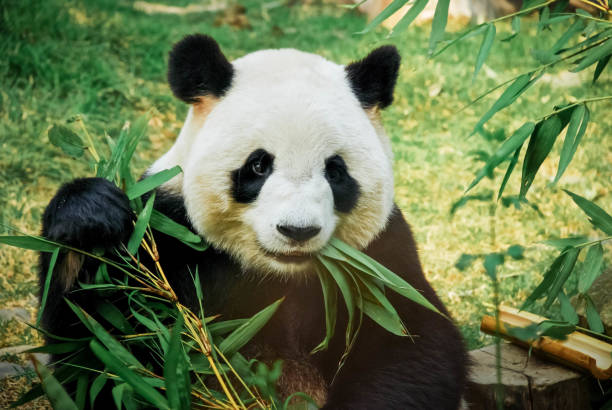panda: (140, 27, 426, 289)
